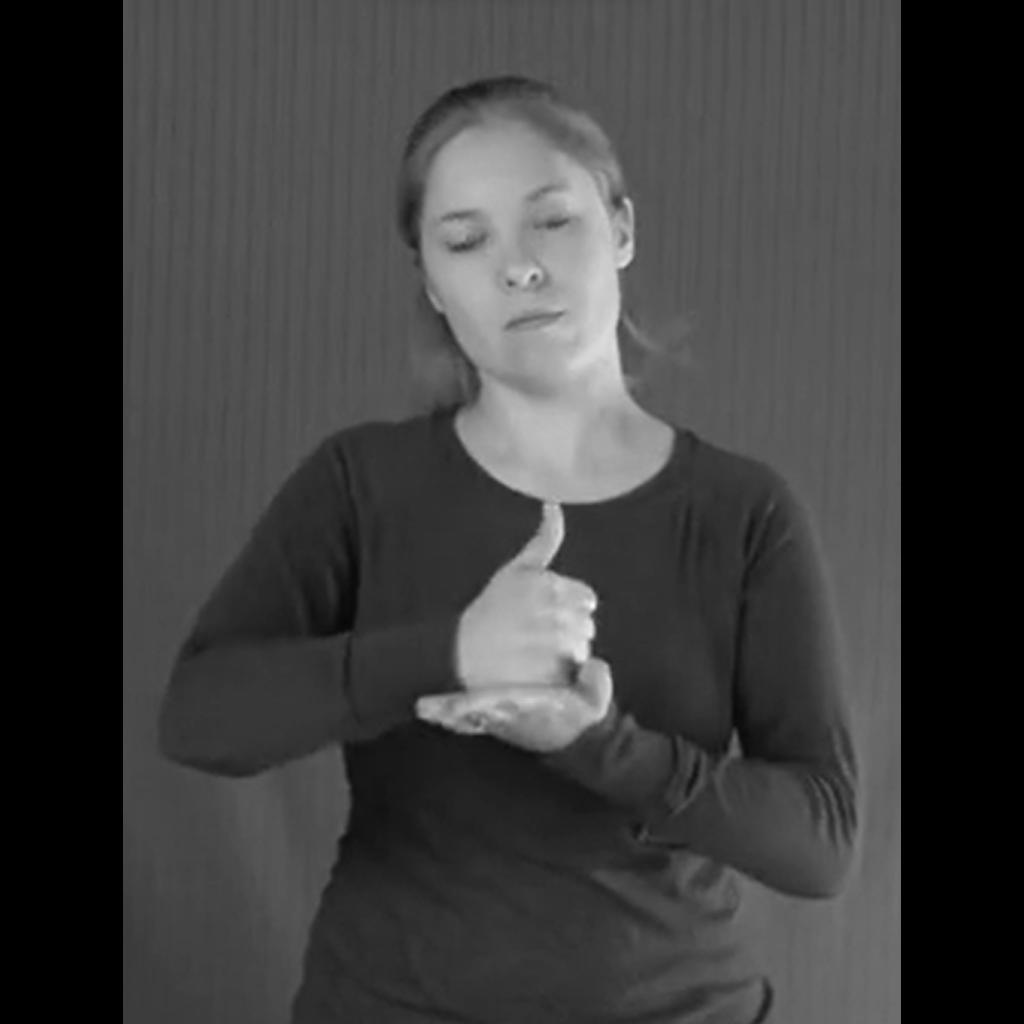help: (416, 501, 614, 755)
